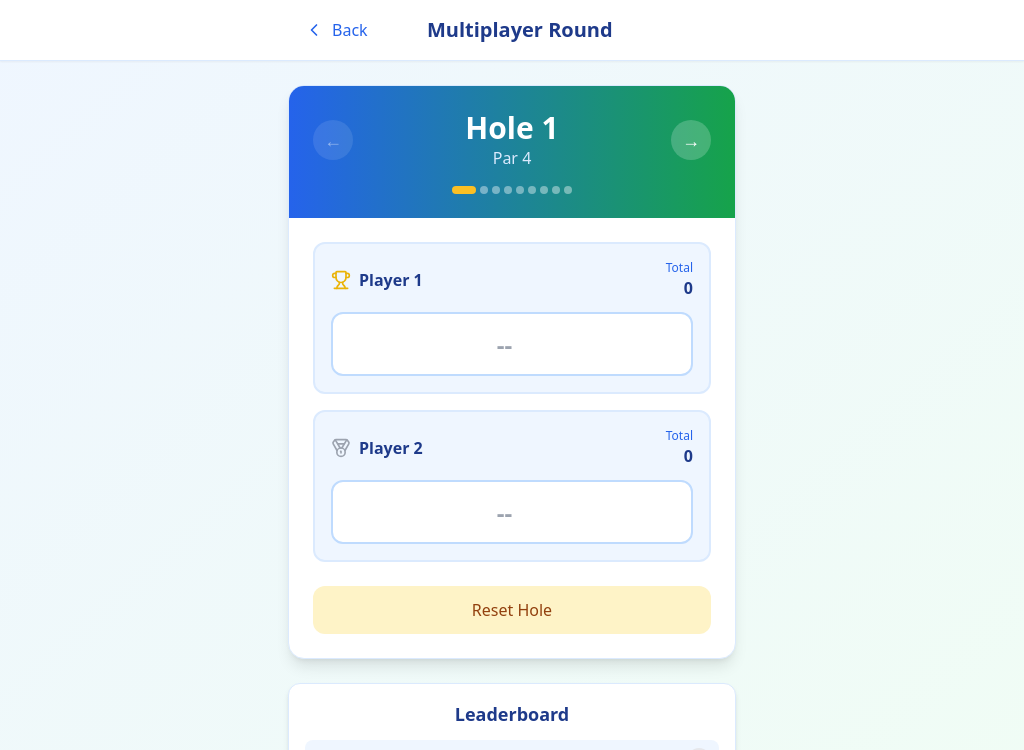
Test case: MultiplayerCardView Component › Score Input and Management › resets hole scores correctly
// Enter scores
Step 1. Type "4" into the 1st number field with placeholder "--" → (512, 344), box [331,312,693,376]
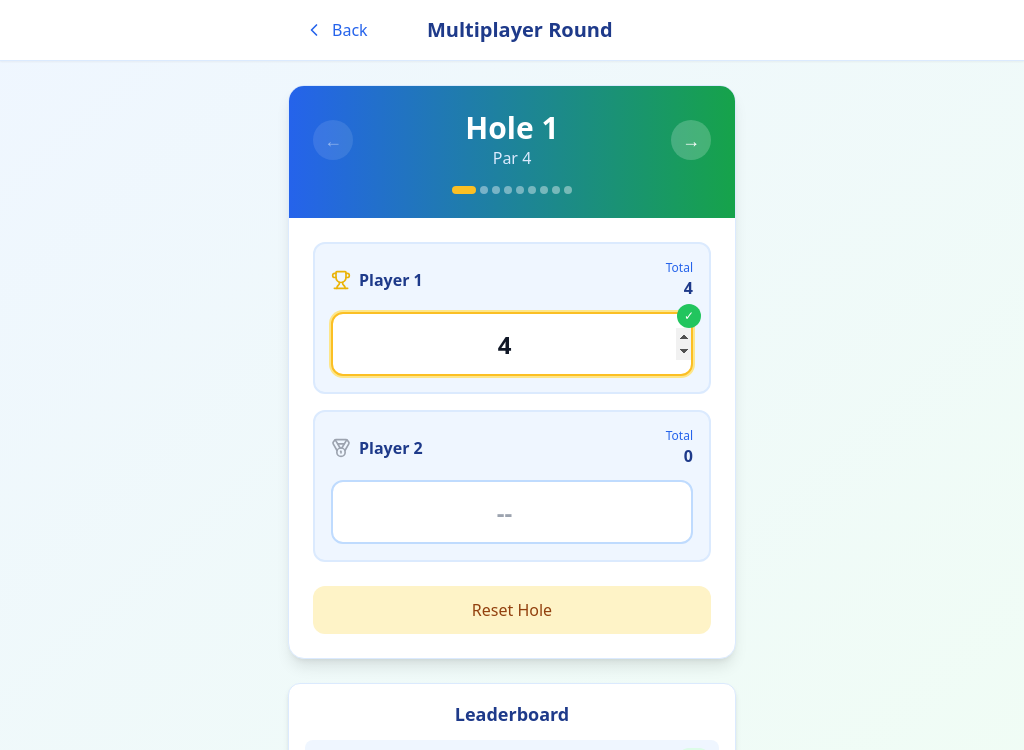
Step 2. Type "5" into the number field with placeholder "--" → (512, 512), box [331,480,693,544]
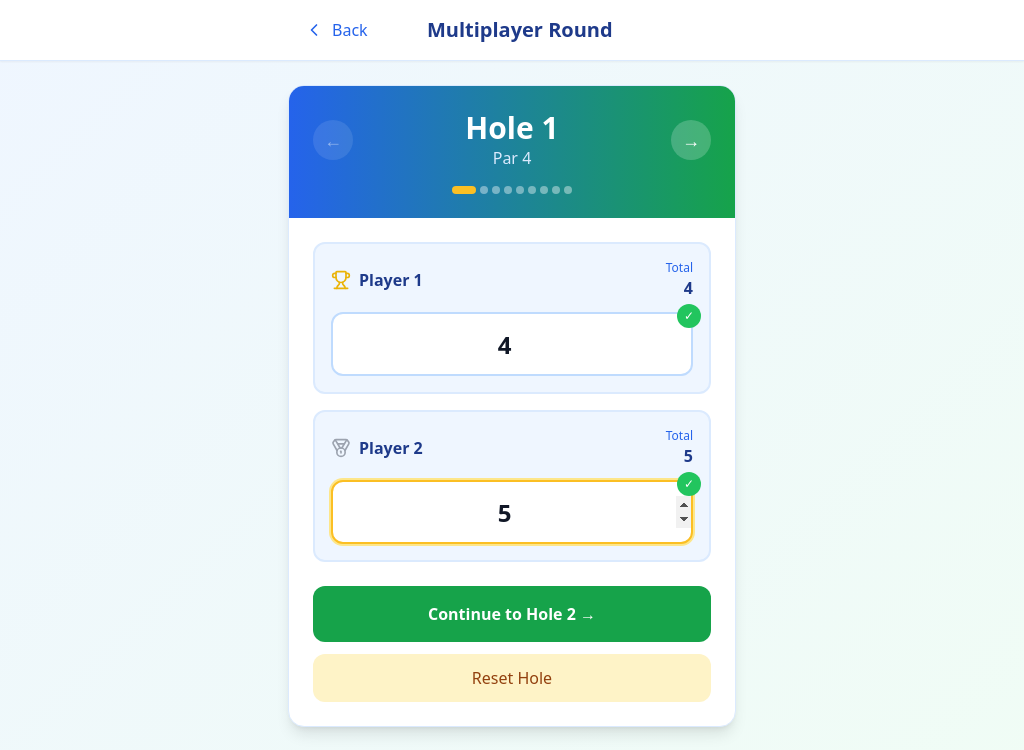
// Reset hole
Step 3. Click the button "Reset Hole" → (512, 678), box [313,654,711,702]
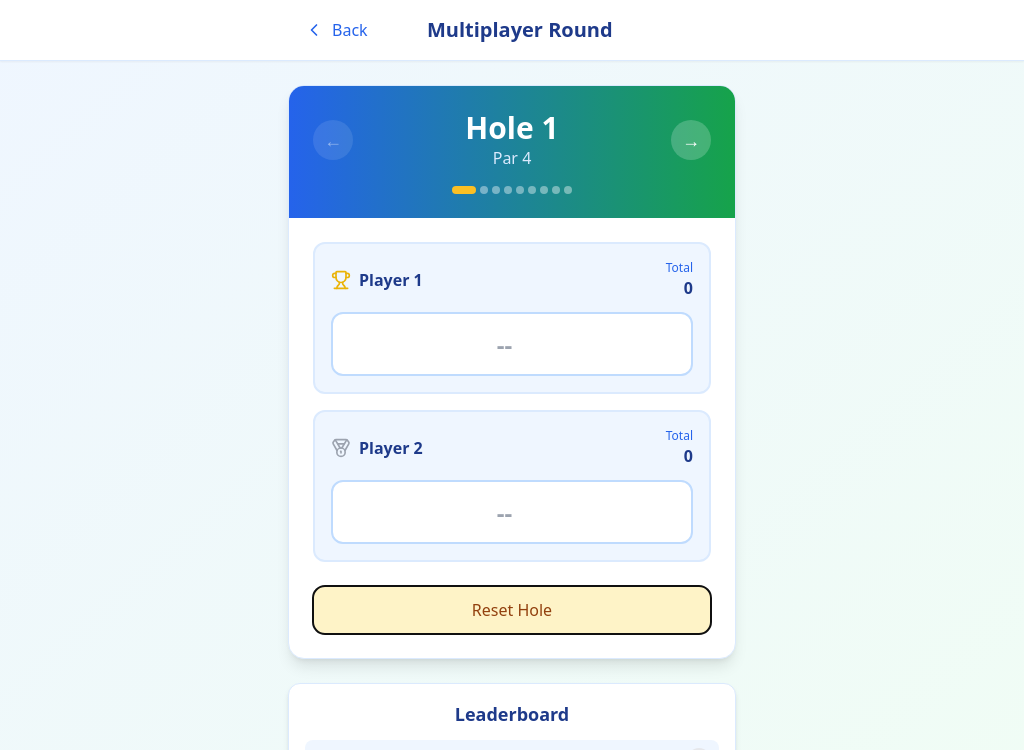
Result: the 1st number field with placeholder "--" is not empty at [331,312,693,376]
Result: the 2nd number field with placeholder "--" is not empty at [331,480,693,544]
